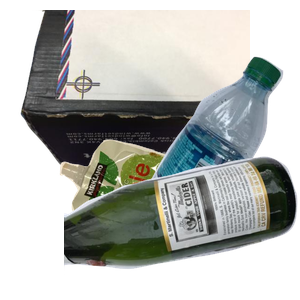cardboard: (18, 10, 258, 171)
glass: (64, 154, 300, 300)
plastic: (142, 54, 300, 234)
trash: (57, 137, 257, 300)
